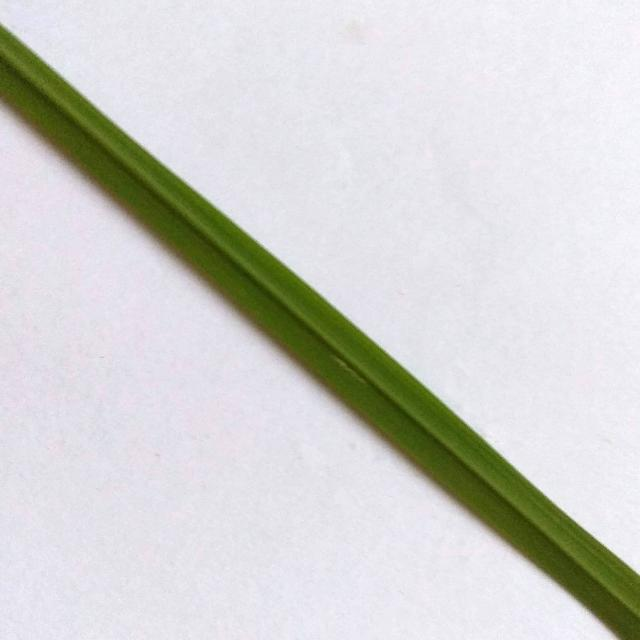Rice_Healthy: (0, 26, 640, 640)
